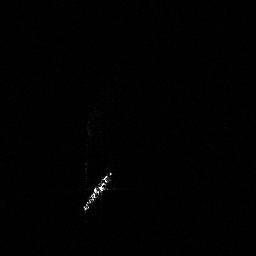ship: (79, 166, 115, 215)
